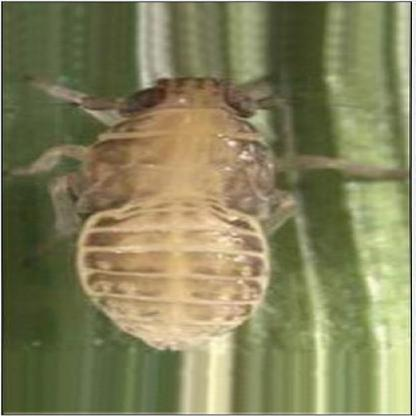brown-planthopper: (74, 70, 279, 358)
